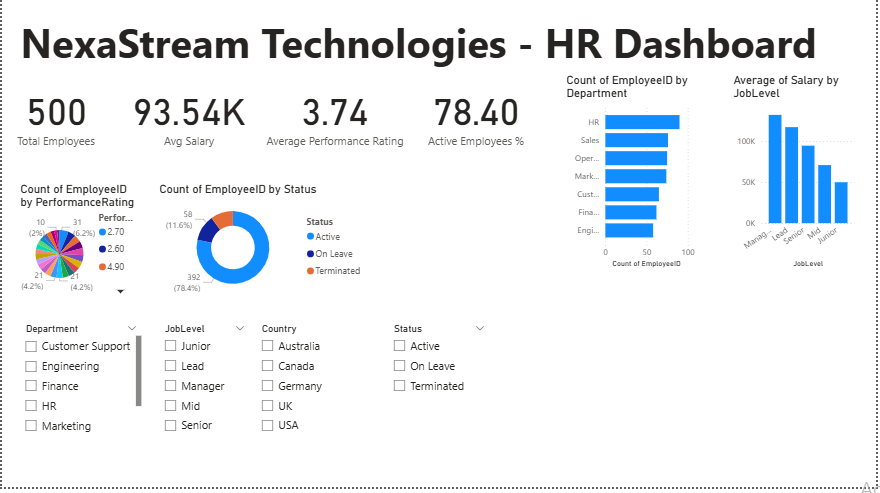

What the dashboard file says about the page in this screenshot:
{"tool":"powerbi","page":{"name":"HR Dashboard","canvas":[1280,720],"ordinal":3},"visuals":[{"type":"textbox","box":[22,24.9,1230.7,89.3],"z":0},{"type":"card","fields":{"Values":["HR_Data.Total Employees"]},"box":[0,114.1,158,121.5],"z":1},{"type":"card","fields":{"Values":["HR_Data.Avg Salary"]},"box":[169.8,114.1,207.8,121.5],"z":2},{"type":"card","fields":{"Values":["HR_Data.Average Performance Rating"]},"box":[377.6,114.1,219.5,121.5],"z":3},{"type":"card","fields":{"Values":["HR_Data.Active Employees %"]},"box":[614.6,114.1,158,121.5],"z":4},{"type":"clusteredBarChart","fields":{"Category":["HR_Data.Department"],"Y":["CountNonNull(HR_Data.EmployeeID)"]},"box":[821,114.1,197.6,289.8],"z":5},{"type":"clusteredColumnChart","fields":{"Category":["HR_Data.JobLevel"],"Y":["Avg(HR_Data.Salary)"]},"box":[1065.4,114.1,187.3,289.8],"z":6},{"type":"pieChart","fields":{"Category":["HR_Data.PerformanceRating"],"Y":["CountNonNull(HR_Data.EmployeeID)"]},"box":[22,273.7,187.3,172.7],"z":7},{"type":"donutChart","fields":{"Category":["HR_Data.Status"],"Y":["CountNonNull(HR_Data.EmployeeID)"]},"box":[225.4,273.7,313.2,172.7],"z":8},{"type":"slicer","fields":{"Values":["HR_Data.Department"]},"box":[22,475.6,187.3,172.7],"z":9},{"type":"slicer","fields":{"Values":["HR_Data.JobLevel"]},"box":[225.4,475.6,142,172.7],"z":10},{"type":"slicer","fields":{"Values":["HR_Data.Country"]},"box":[367,476,171,173],"z":11},{"type":"slicer","fields":{"Values":["HR_Data.Status"]},"box":[560.5,475.6,158,182.9],"z":12}]}

Visuals, with their boxes in screenshot pixels (x1, y1, x2, y2), scaled from the page's 1280x720 canvas onto the 880x493 screenshot:
textbox: x1=15 y1=17 x2=861 y2=78
card - HR_Data.Total Employees: x1=0 y1=78 x2=109 y2=161
card - HR_Data.Avg Salary: x1=117 y1=78 x2=260 y2=161
card - HR_Data.Average Performance Rating: x1=260 y1=78 x2=411 y2=161
card - HR_Data.Active Employees %: x1=423 y1=78 x2=531 y2=161
clusteredBarChart - HR_Data.Department x CountNonNull(HR_Data.EmployeeID): x1=564 y1=78 x2=700 y2=277
clusteredColumnChart - HR_Data.JobLevel x Avg(HR_Data.Salary): x1=732 y1=78 x2=861 y2=277
pieChart - HR_Data.PerformanceRating x CountNonNull(HR_Data.EmployeeID): x1=15 y1=187 x2=144 y2=306
donutChart - HR_Data.Status x CountNonNull(HR_Data.EmployeeID): x1=155 y1=187 x2=370 y2=306
slicer - HR_Data.Department: x1=15 y1=326 x2=144 y2=444
slicer - HR_Data.JobLevel: x1=155 y1=326 x2=253 y2=444
slicer - HR_Data.Country: x1=252 y1=326 x2=370 y2=444
slicer - HR_Data.Status: x1=385 y1=326 x2=494 y2=451
